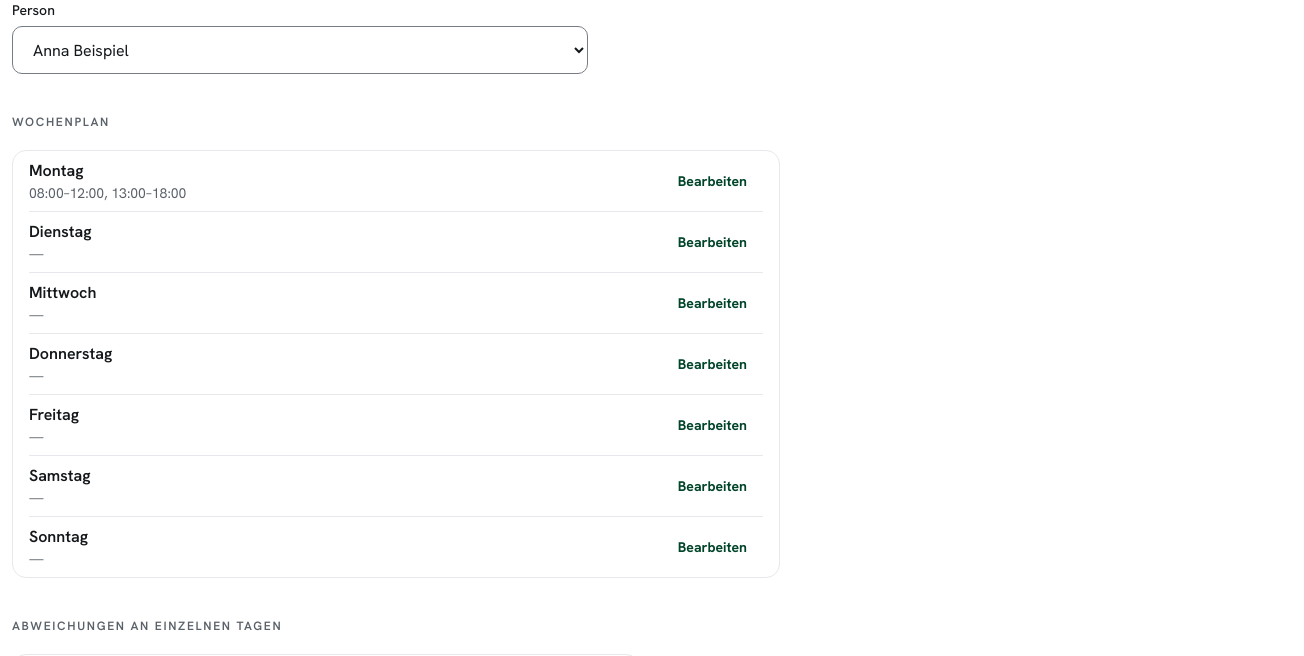
Test: ArbeitszeitJePerson (ORG-003) › Wochenplan › verwirft die Änderungen aller geöffneten Tage und schließt sie (Design-Review)
Click the button "Bearbeiten" in the row of "Montag" at (712, 181), box 662,159 -> 763,203
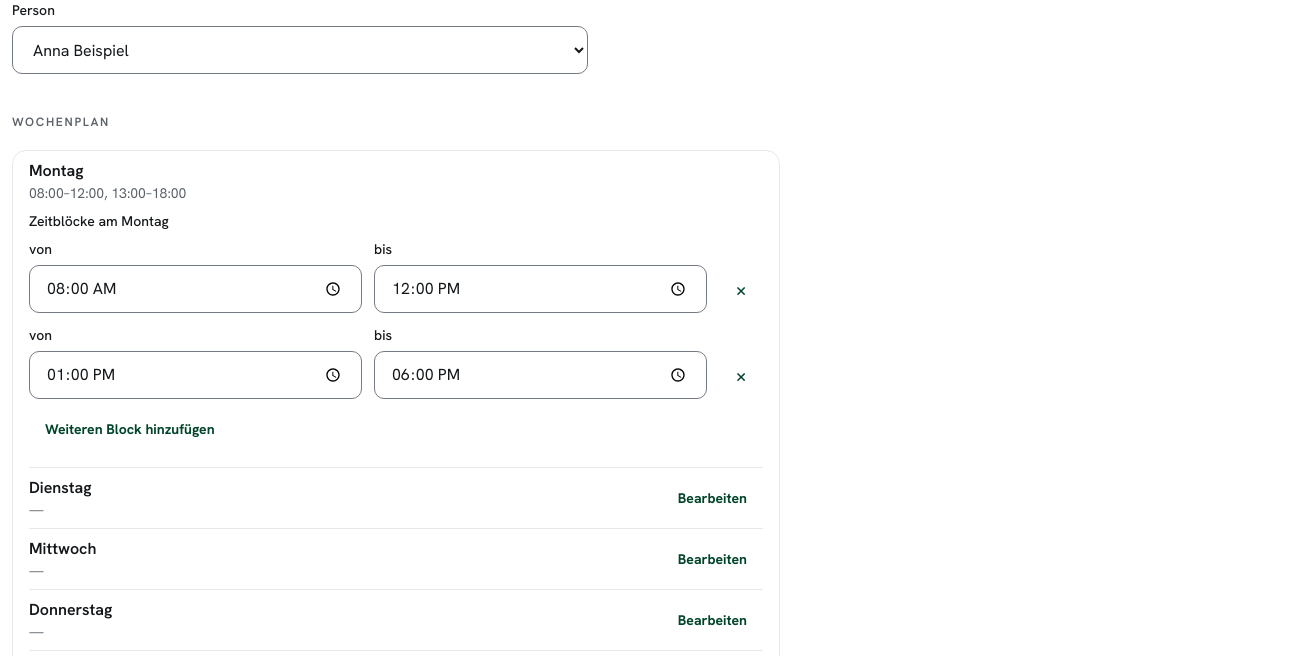
Replace the text in the time field named "Montag, Block 1 von" with "07:00" at (196, 289), box 29,265 -> 362,313
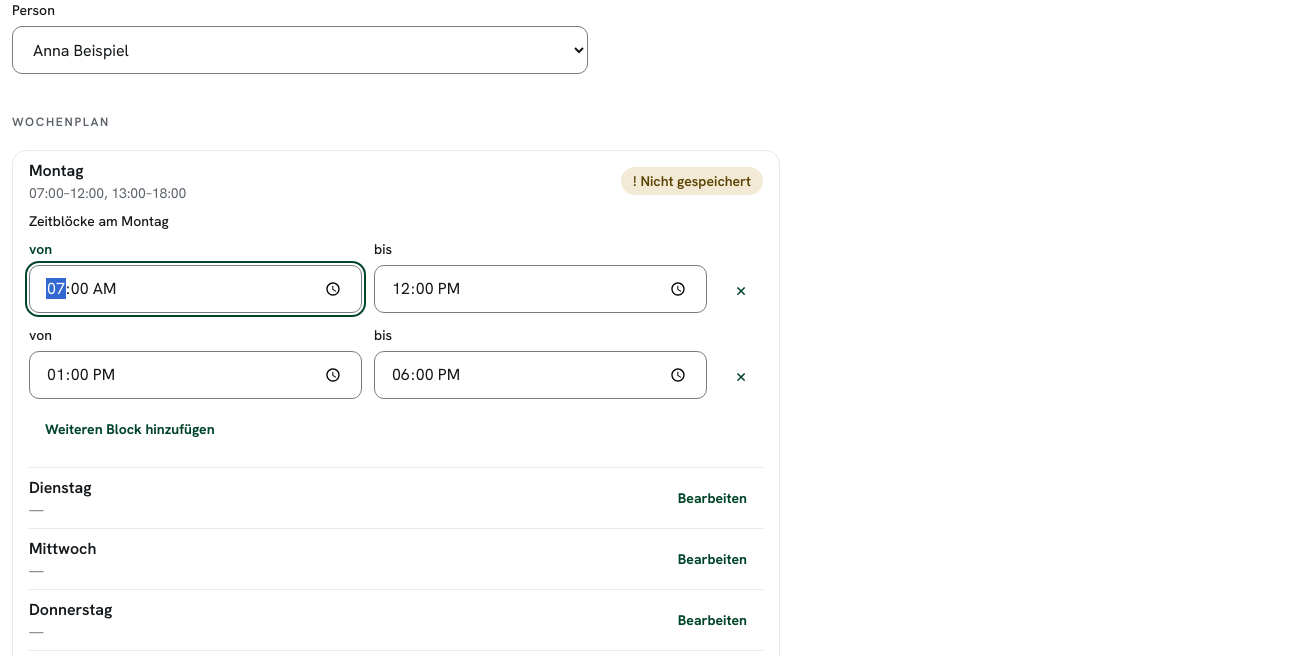
Click the button "Bearbeiten" in the row of "Dienstag" at (712, 498), box 662,476 -> 763,520
(page scrolled)
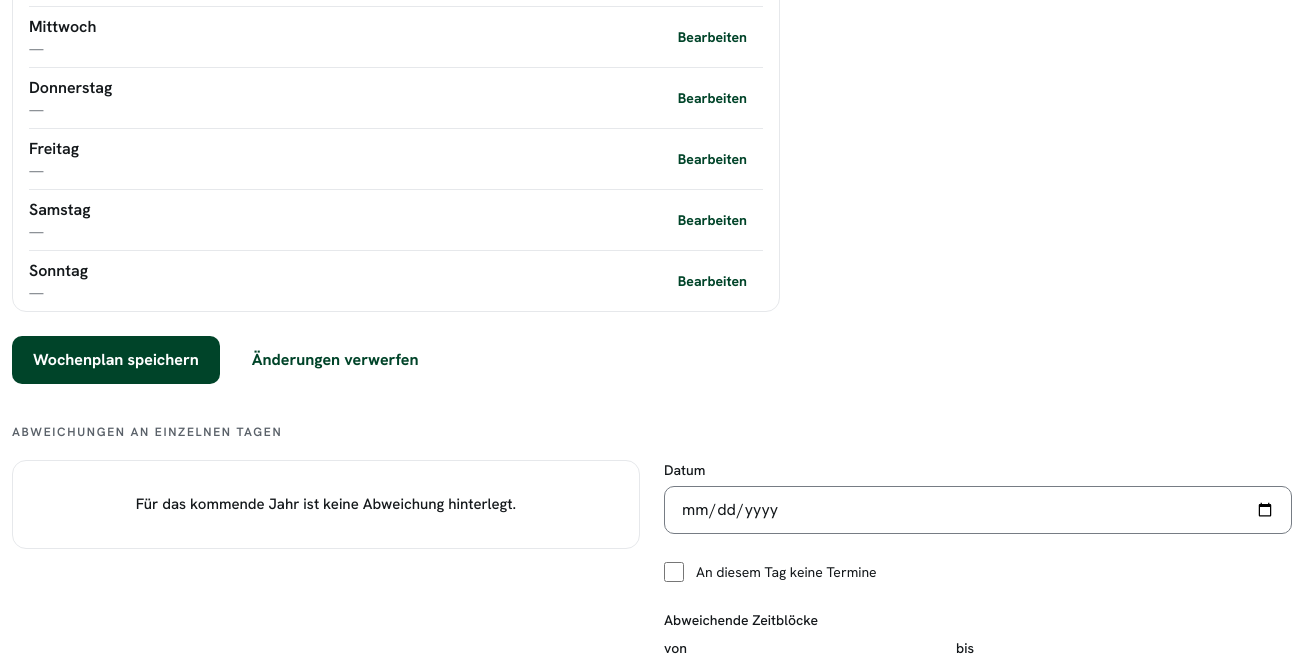
Click the button "Änderungen verwerfen" at (335, 360), box 232,336 -> 438,384
(page scrolled)
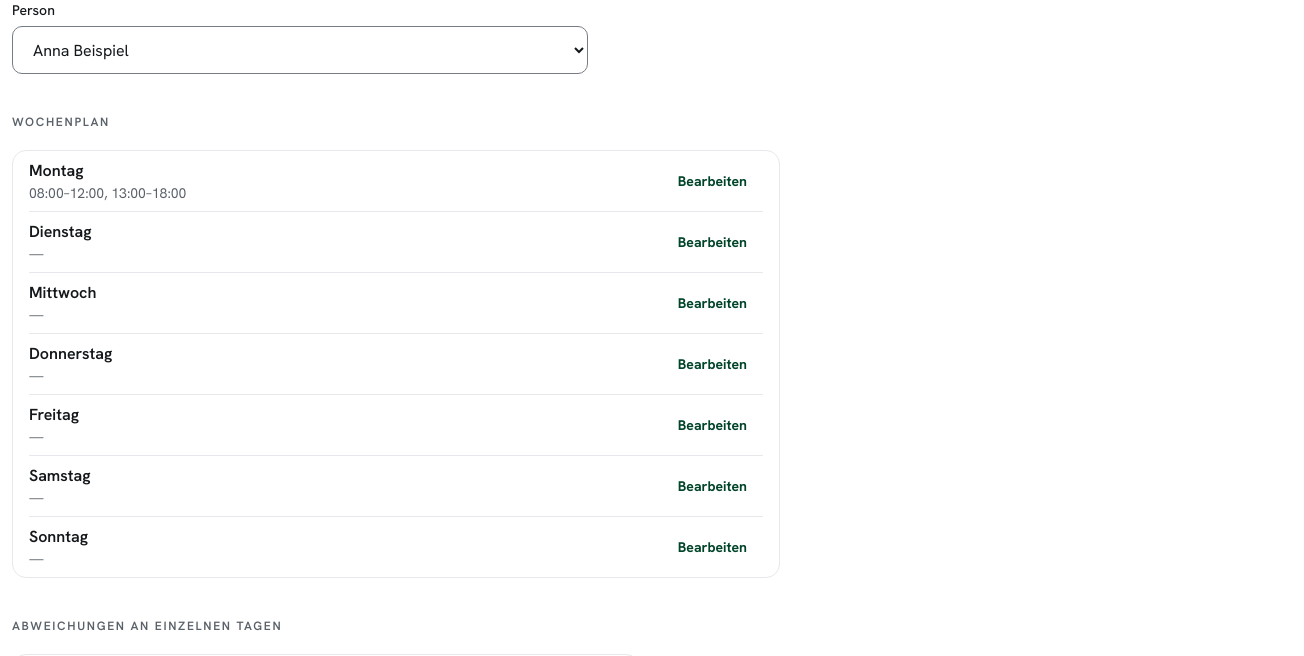
Check: the text "08:00–12:00, 13:00–18:00" is shown, box 29,184 -> 186,202
Check: the button "Wochenplan speichern" is gone
